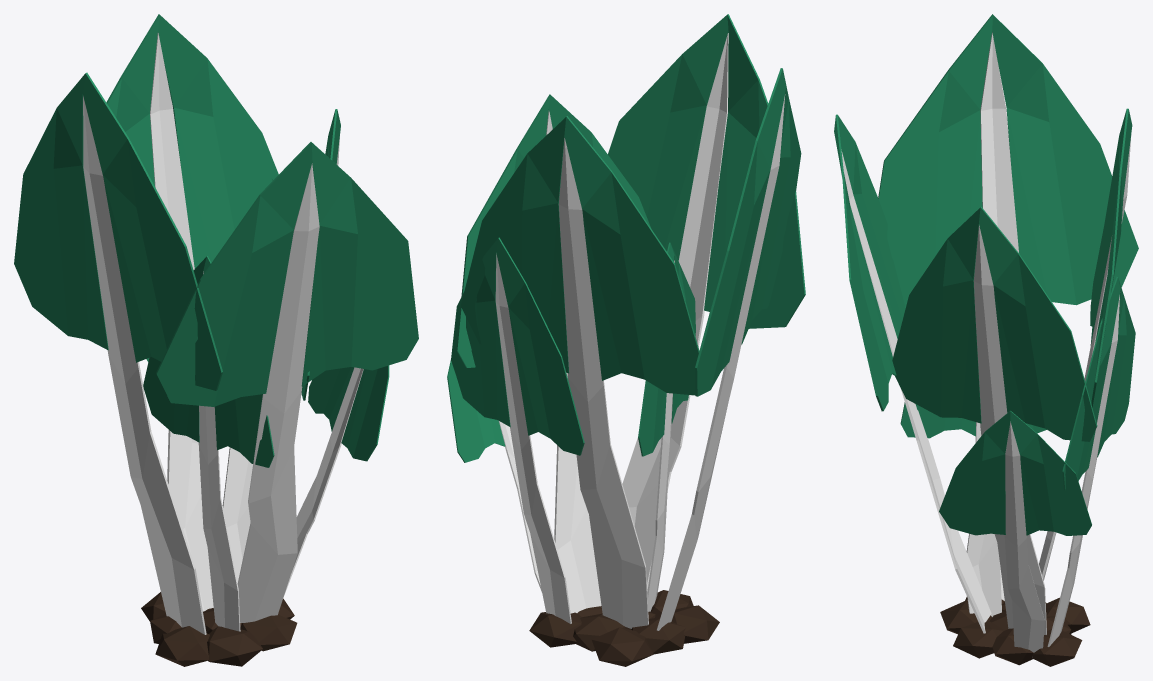
File: Chard_3.fbx
The picture shows the model from 3 angles, left to right: view 1: azimuth 30°, elevation 25°; view 2: azimuth 150°, elevation 25°; view 3: azimuth 270°, elevation 25°; orthographic projection. The views are drawn at different scales.
Visible parts, largest first — view 1: 3_Chard; view 2: 3_Chard; view 3: 3_Chard.
Boxes of the visible parts, x1,y1,x2,y2 form: 3_Chard: (14, 14, 418, 666); 3_Chard: (447, 14, 805, 666); 3_Chard: (834, 14, 1138, 666).
Size of the model in its own units: 21.45 by 39.82 by 19.6.
